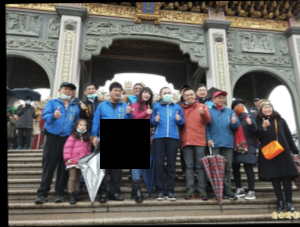mask_weared_incorrect: (183, 91, 196, 104), (59, 87, 73, 99), (85, 87, 96, 99), (76, 122, 86, 133)
with_mask: (159, 90, 172, 102), (233, 103, 245, 114), (24, 98, 31, 106)
without_mask: (260, 105, 273, 116), (109, 88, 122, 99), (214, 96, 226, 106), (141, 89, 151, 101), (196, 88, 207, 98), (132, 85, 143, 95), (253, 100, 261, 106)
